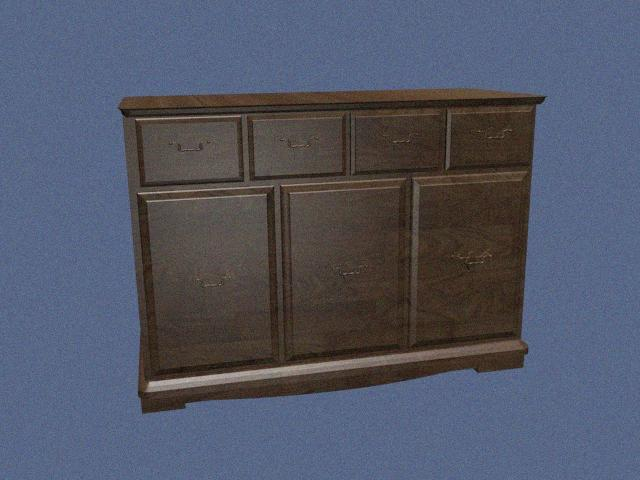cabinet_door: (145, 190, 276, 368), (282, 182, 404, 354), (411, 176, 524, 342), (138, 118, 243, 185), (250, 114, 346, 179), (352, 110, 446, 174), (446, 106, 532, 168)
handle: (167, 133, 213, 156), (279, 131, 321, 153), (328, 257, 369, 279), (473, 126, 512, 143), (450, 257, 489, 271), (195, 279, 224, 291), (391, 137, 410, 149)
